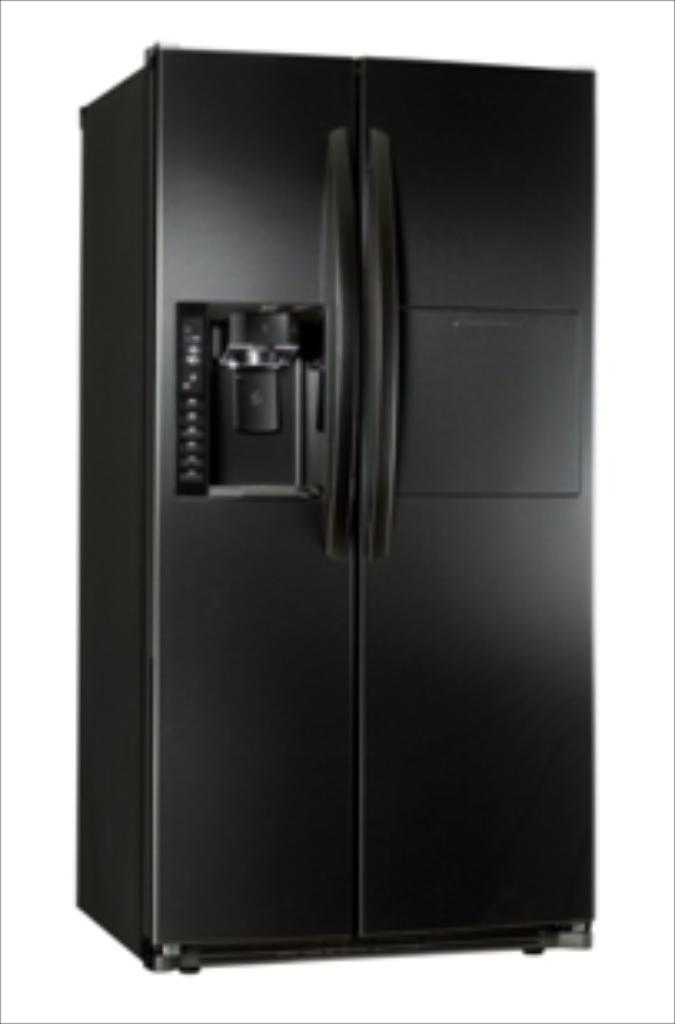handle: (361, 138, 402, 528), (327, 127, 361, 556)
refrigerator door: (373, 73, 586, 920), (158, 50, 358, 934)
